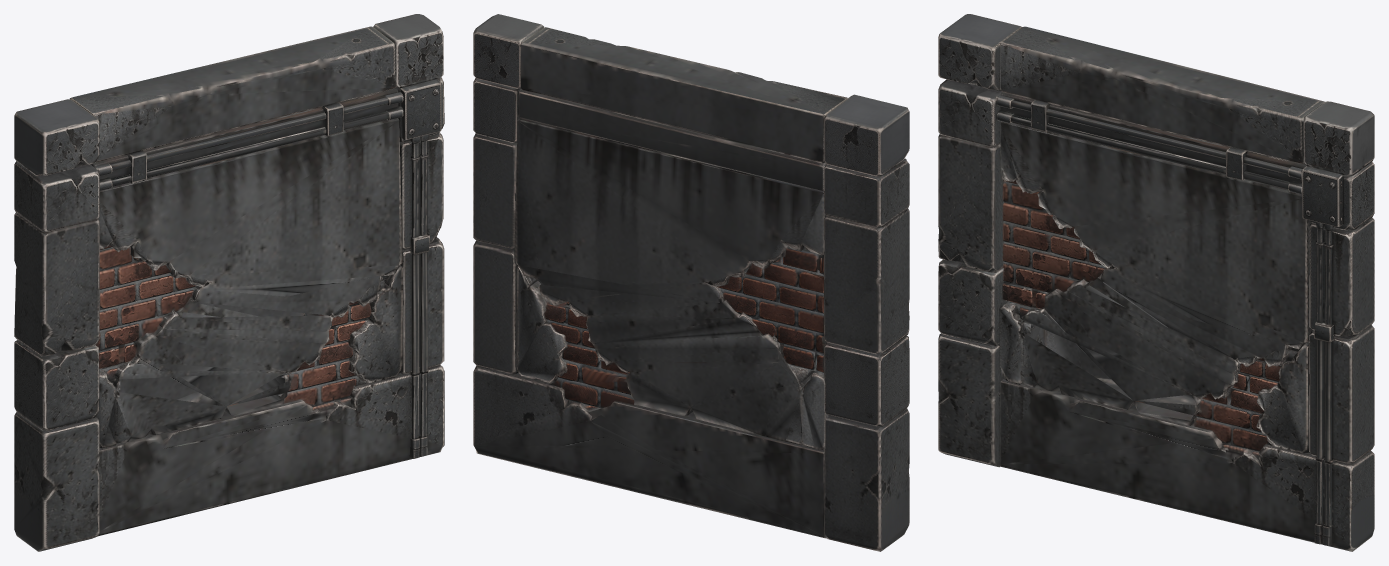
Rendered from wall.glb.
3 renders of one model, left to right at view 1: azimuth 30°, elevation 25°; view 2: azimuth 150°, elevation 25°; view 3: azimuth 330°, elevation 25°, orthographic.
Size of the model in its own units: 0.957 by 0.9536 by 0.1245.
1 material, 1 textured.
